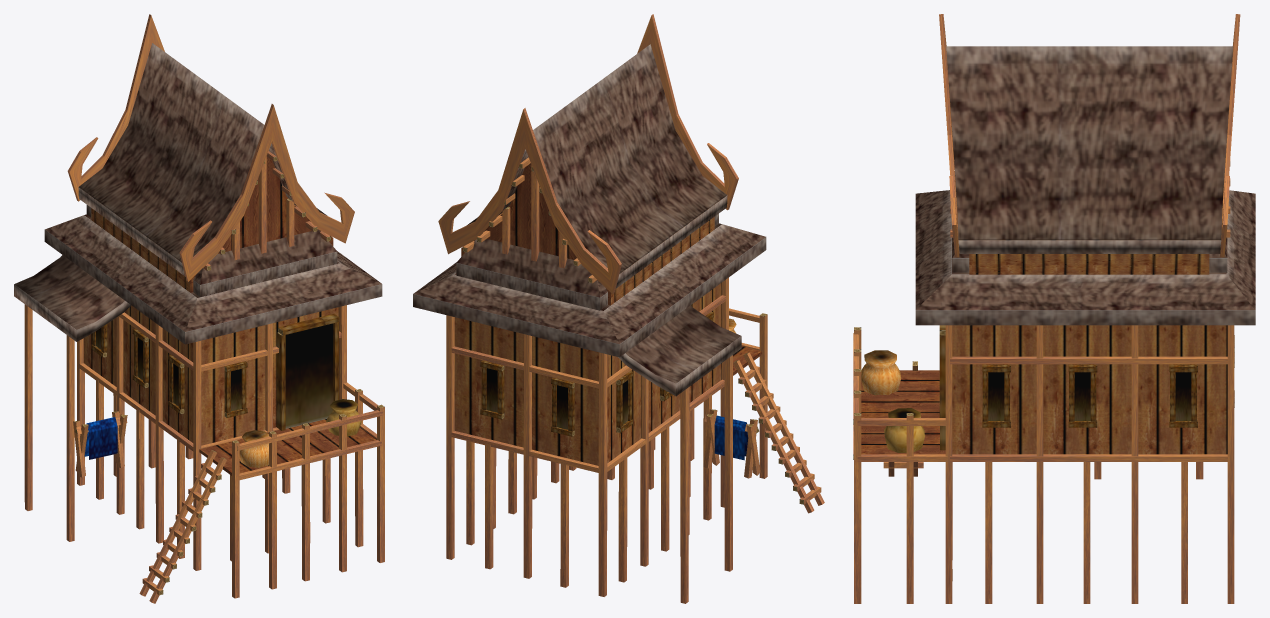
Rendered from house_3.dae.
3 renders of one model, left to right at view 1: azimuth 30°, elevation 25°; view 2: azimuth 150°, elevation 25°; view 3: azimuth 270°, elevation 25°, orthographic. The views are drawn at different scales.
Visible parts, largest first — view 1: house_3; view 2: house_3; view 3: house_3.
Boxes of the visible parts, x1,y1,x2,y2 form: house_3: (14,14,384,603); house_3: (413,14,824,603); house_3: (853,14,1255,603).
Size of the model in its own units: 10.91 by 12.67 by 18.95.
